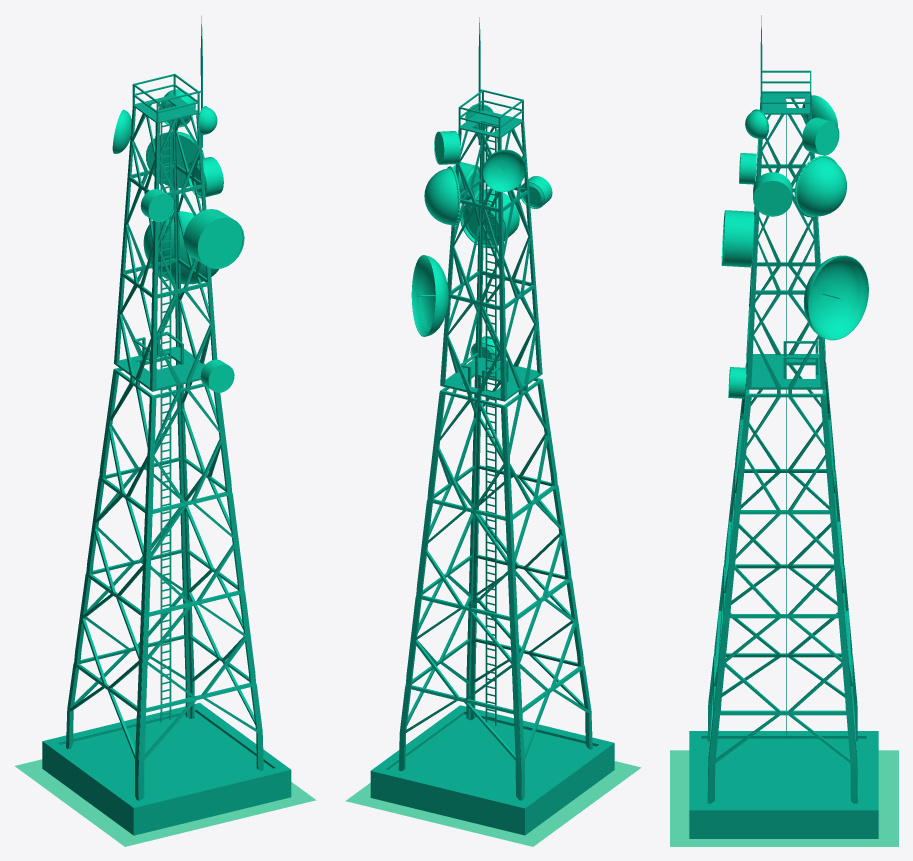
The model's file is tower_green.fbx.
3 renders of one model, left to right at view 1: azimuth 30°, elevation 25°; view 2: azimuth 150°, elevation 25°; view 3: azimuth 270°, elevation 25°, orthographic. The views are drawn at different scales.
Visible parts, largest first — view 1: inc3d_comm_tower:Line03, inc3d_comm_tower:Box01, ght_ght2, inc3d_comm_tower:Cylinder03, inc3d_comm_tower:satalite, inc3d_comm_tower:Sphere01, inc3d_comm_tower:Cylinder01, inc3d_comm_tower:Cylinder04, inc3d_comm_tower:Cylinder05, inc3d_comm_tower:satalite01; view 2: inc3d_comm_tower:Line03, inc3d_comm_tower:Box01, ght_ght2, inc3d_comm_tower:satalite, inc3d_comm_tower:Sphere01, inc3d_comm_tower:satalite01, inc3d_comm_tower:Cylinder03, inc3d_comm_tower:Cylinder02, inc3d_comm_tower:Cylinder05; view 3: inc3d_comm_tower:Line03, inc3d_comm_tower:Box01, ght_ght2, inc3d_comm_tower:satalite, inc3d_comm_tower:Sphere01, inc3d_comm_tower:Cylinder03, inc3d_comm_tower:Cylinder01, inc3d_comm_tower:Cylinder02, inc3d_comm_tower:Sphere02, inc3d_comm_tower:Cylinder04, inc3d_comm_tower:Cylinder05, inc3d_comm_tower:satalite01.
Boxes of the visible parts, x1,y1,x2,y2 form: inc3d_comm_tower:Line03: (66,15,263,800); inc3d_comm_tower:Box01: (42,703,291,835); ght_ght2: (15,759,316,846); inc3d_comm_tower:Cylinder03: (183,209,244,268); inc3d_comm_tower:satalite: (143,211,218,284); inc3d_comm_tower:Sphere01: (146,131,204,187); inc3d_comm_tower:Cylinder01: (188,157,223,198); inc3d_comm_tower:Cylinder04: (200,359,234,392); inc3d_comm_tower:Cylinder05: (140,189,174,222); inc3d_comm_tower:satalite01: (112,109,131,153); inc3d_comm_tower:Line03: (398,17,592,800); inc3d_comm_tower:Box01: (370,705,614,835); ght_ght2: (345,761,641,846); inc3d_comm_tower:satalite: (411,255,448,336); inc3d_comm_tower:Sphere01: (424,166,460,226); inc3d_comm_tower:satalite01: (483,149,525,191); inc3d_comm_tower:Cylinder03: (460,188,519,248); inc3d_comm_tower:Cylinder02: (434,131,460,164); inc3d_comm_tower:Cylinder05: (519,176,552,208); inc3d_comm_tower:Line03: (707,15,857,803); inc3d_comm_tower:Box01: (689,731,878,838); ght_ght2: (670,750,898,846); inc3d_comm_tower:satalite: (803,255,868,340); inc3d_comm_tower:Sphere01: (794,155,846,217); inc3d_comm_tower:Cylinder03: (721,210,753,267); inc3d_comm_tower:Cylinder01: (753,172,792,216); inc3d_comm_tower:Cylinder02: (802,117,839,155); inc3d_comm_tower:Sphere02: (745,109,768,139); inc3d_comm_tower:Cylinder04: (728,367,746,398); inc3d_comm_tower:Cylinder05: (739,153,756,184); inc3d_comm_tower:satalite01: (802,95,837,126).
Size of the model in its own units: 8 by 30.76 by 8.
